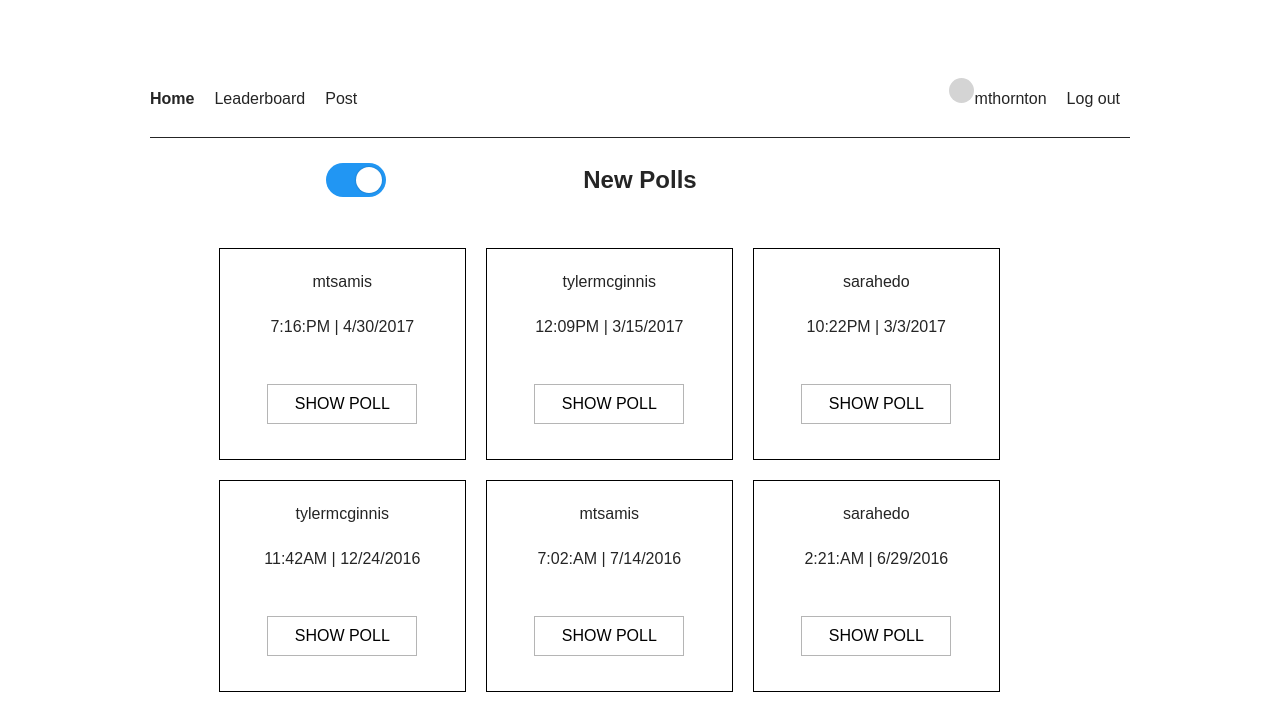
Scenario: nav clicks › should navigate from home on link click
Click the link "Leaderboard": click(260, 98) [214,90,305,107]
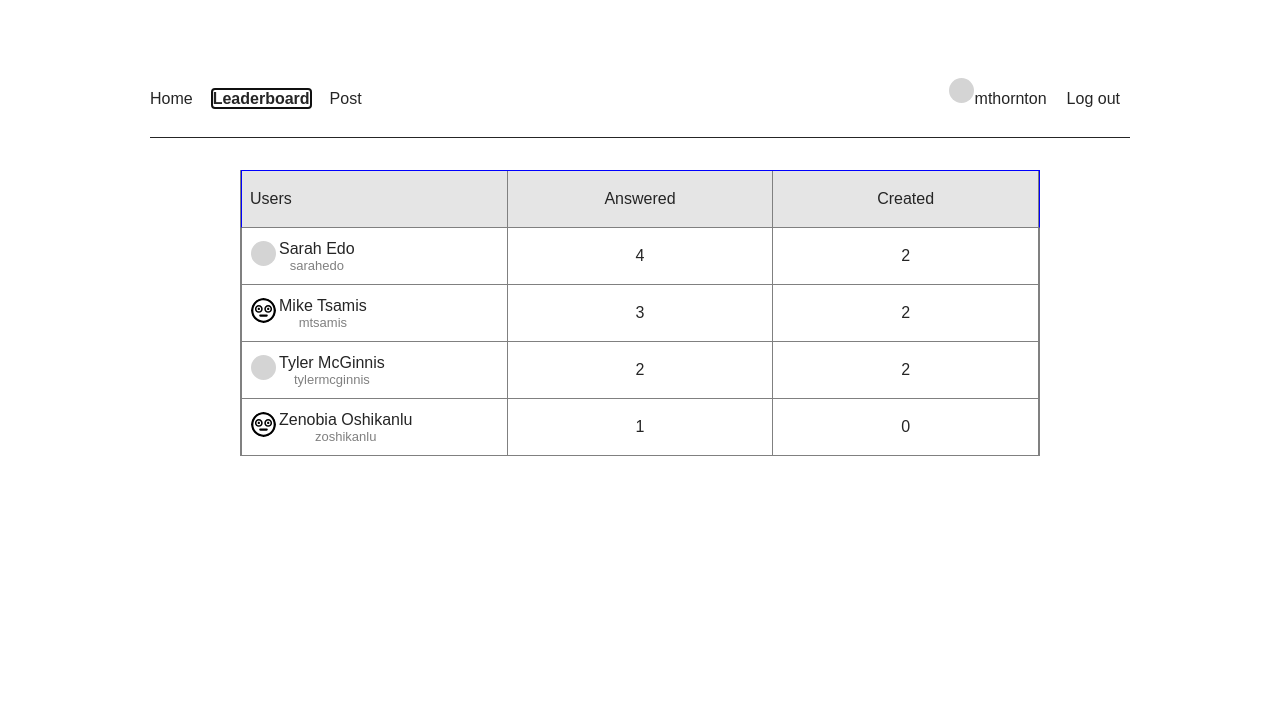
Expected: the element showing "Users Answered Created" is shown, [241,170,1040,228]
Expected: the text "Users" is shown, [242,171,508,227]
Expected: the text "Answered" is shown, [508,171,773,227]
